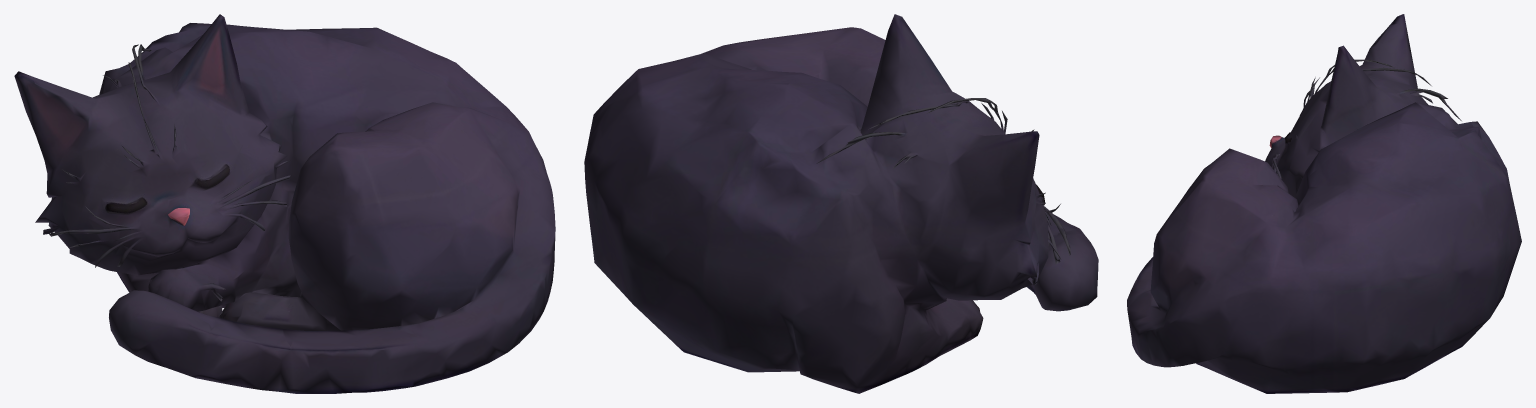
Rendered from cat.glb.
The picture shows the model from 3 angles, left to right: view 1: azimuth 30°, elevation 25°; view 2: azimuth 150°, elevation 25°; view 3: azimuth 270°, elevation 25°; orthographic projection. The views are drawn at different scales.
Visible parts, largest first — view 1: tripo_node_a600549d-d1fa-4867-92c7-abbebc74820f; view 2: tripo_node_a600549d-d1fa-4867-92c7-abbebc74820f; view 3: tripo_node_a600549d-d1fa-4867-92c7-abbebc74820f.
Boxes of the visible parts, x1=… form: tripo_node_a600549d-d1fa-4867-92c7-abbebc74820f: x1=14, y1=14, x2=555, y2=393; tripo_node_a600549d-d1fa-4867-92c7-abbebc74820f: x1=584, y1=14, x2=1098, y2=393; tripo_node_a600549d-d1fa-4867-92c7-abbebc74820f: x1=1127, y1=14, x2=1521, y2=393.
Size of the model in its own units: 1 by 0.6281 by 0.8973.
1 material, 1 textured.
